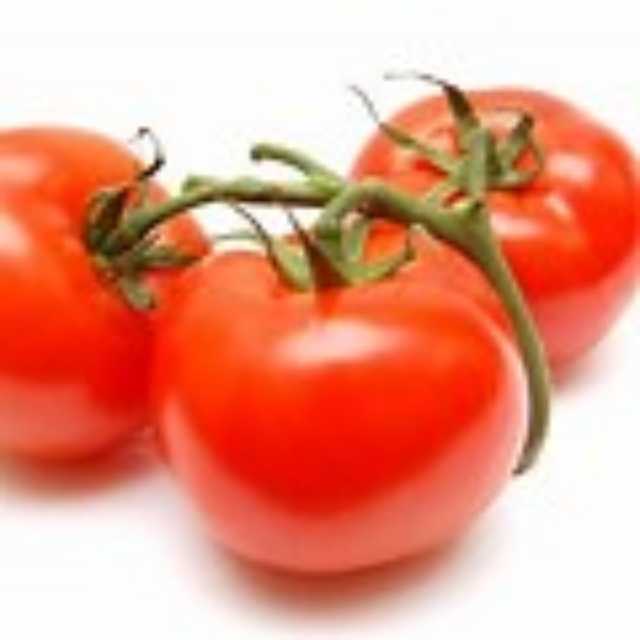tomato: (147, 191, 538, 574), (338, 81, 639, 358), (2, 119, 211, 479)
